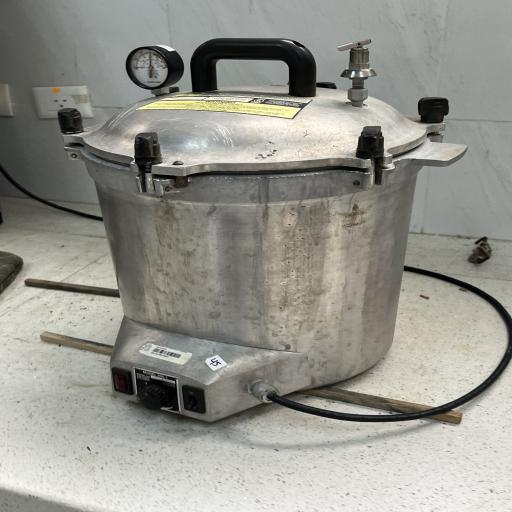Autoclave: (52, 31, 480, 437)
